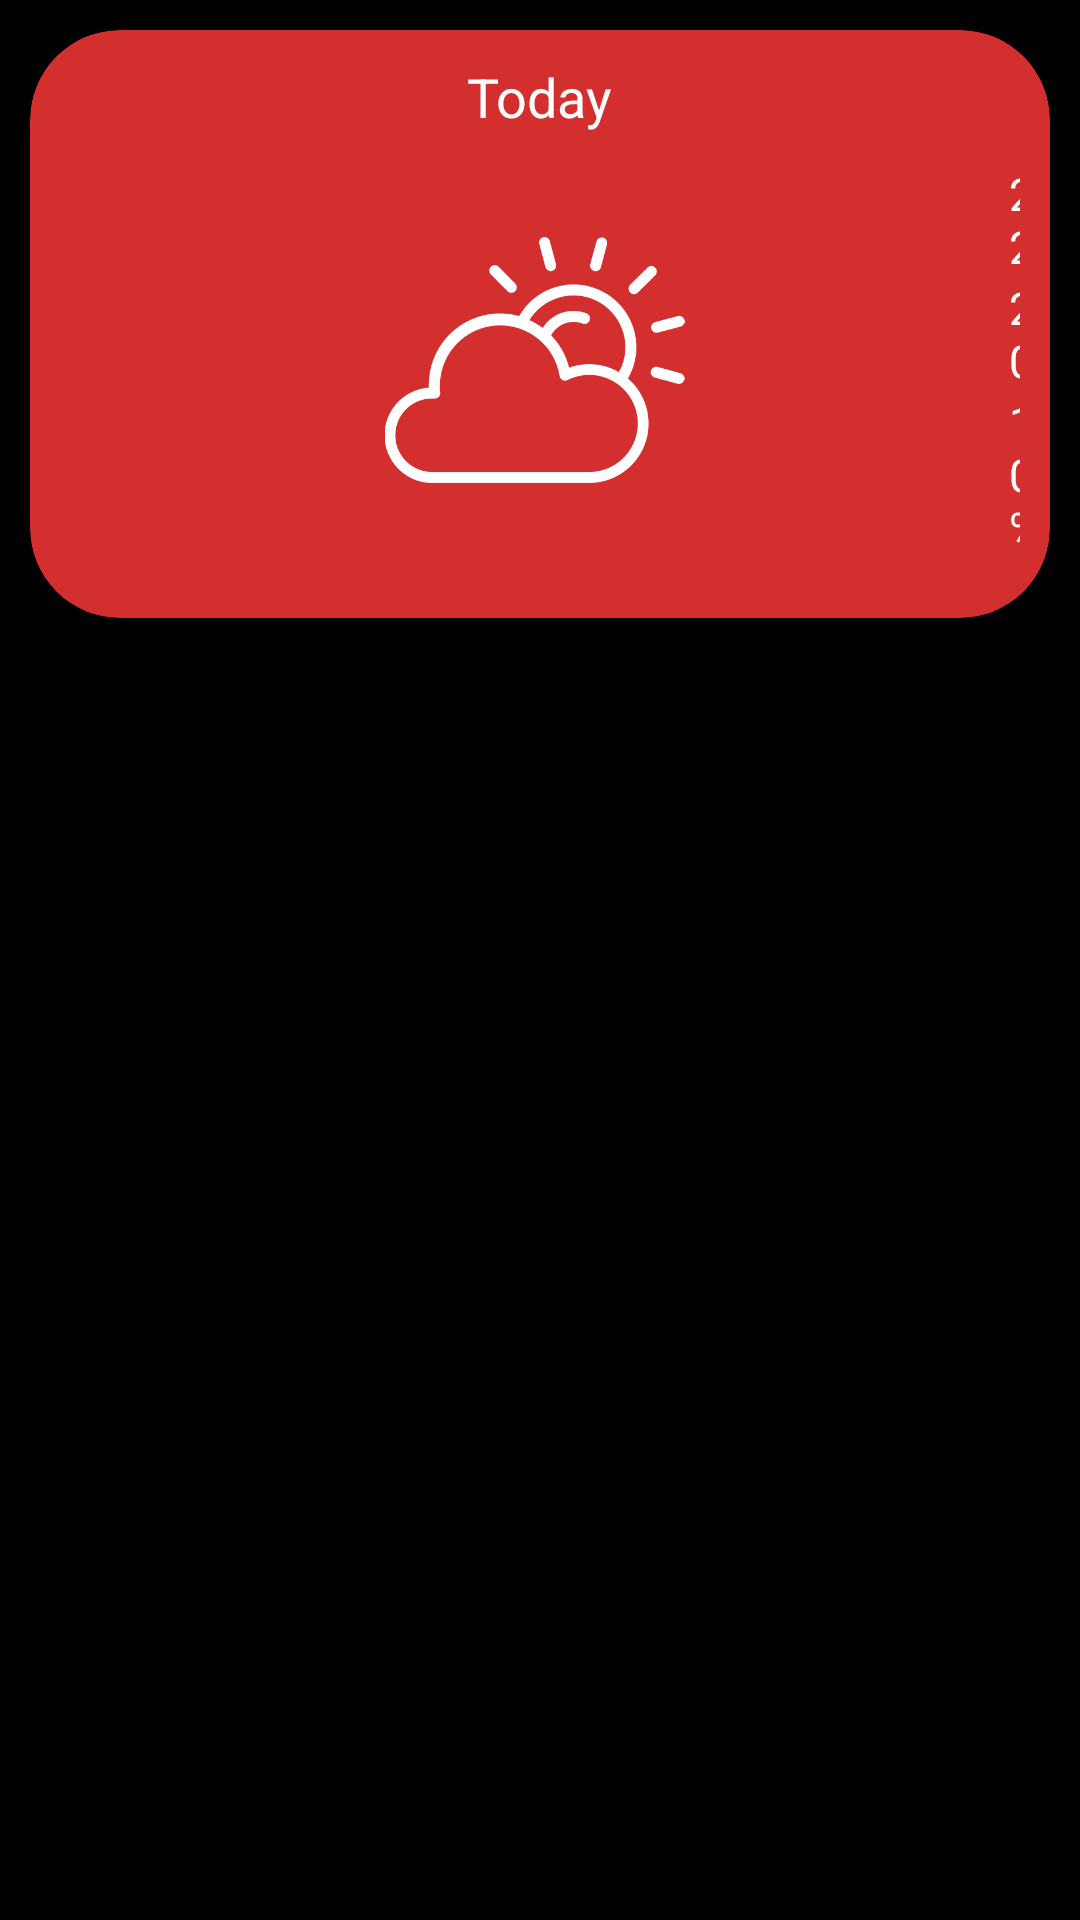

Where icons sit on this 1080w x 1920h app screen, as (x1, y1, x2, y2):
Cloud Cover: (385, 237, 685, 483)
